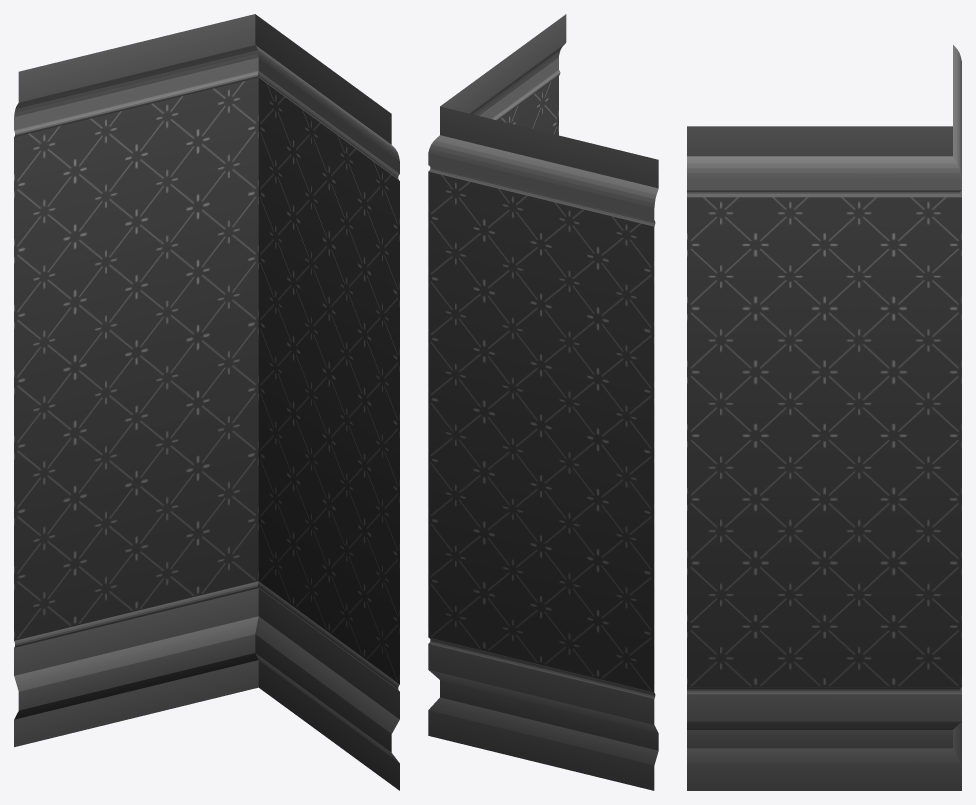
Rendered from Wall_02_Int_Light.fbx.
3 views of the same model, side by side, from view 1: azimuth 30°, elevation 25°; view 2: azimuth 150°, elevation 25°; view 3: azimuth 270°, elevation 25° (orthographic). The views are drawn at different scales.
Parts seen in each view (by area): view 1: Wall_02_Int_Light; view 2: Wall_02_Int_Light; view 3: Wall_02_Int_Light.
Boxes of the visible parts, x1,y1,x2,y2 form: Wall_02_Int_Light: [14, 14, 399, 790]; Wall_02_Int_Light: [428, 14, 658, 790]; Wall_02_Int_Light: [687, 45, 961, 790].
Bounding box in the file's own units: 0.9999 × 2.65 × 0.9999.
